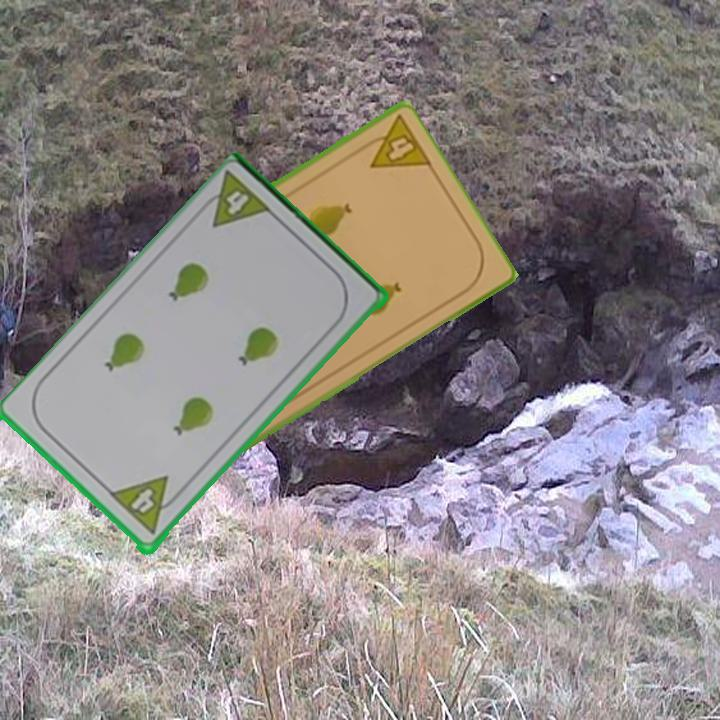4p: (193, 168, 276, 232), (107, 473, 185, 539), (353, 111, 434, 171)
